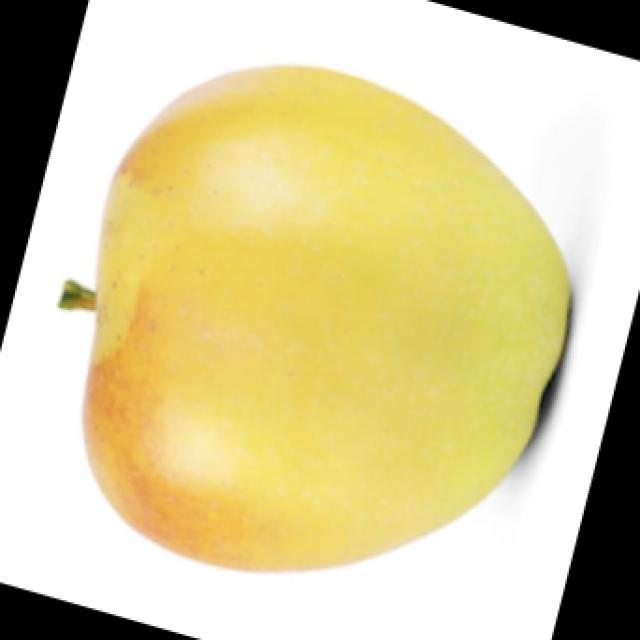Fresh Apple: (76, 71, 532, 576)
